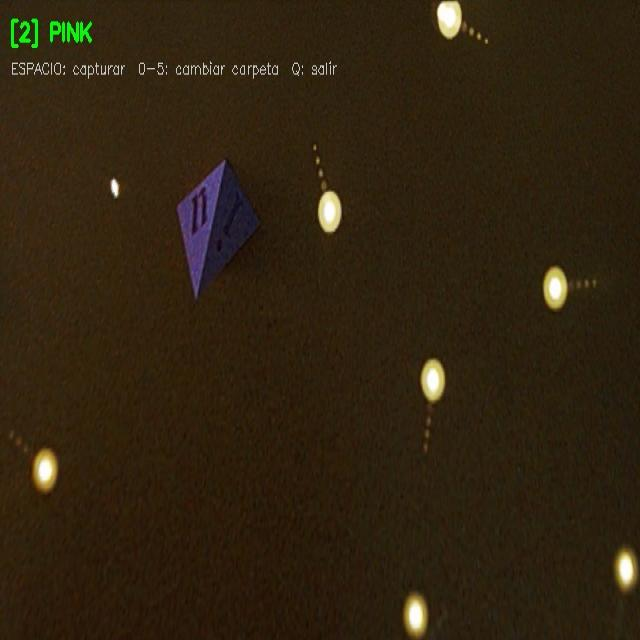pink: (179, 162, 260, 302), (177, 160, 259, 297)
